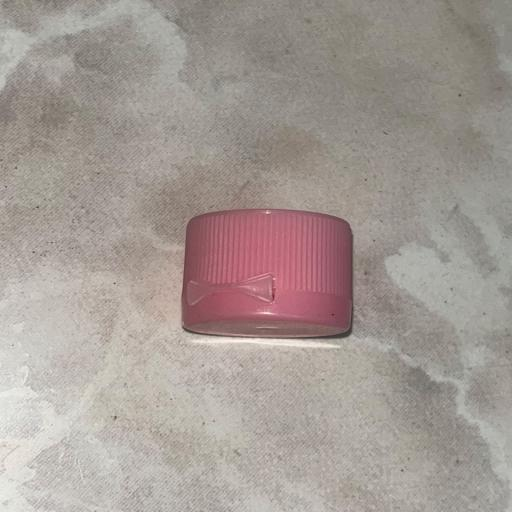HDPE: (98, 129, 402, 468)
